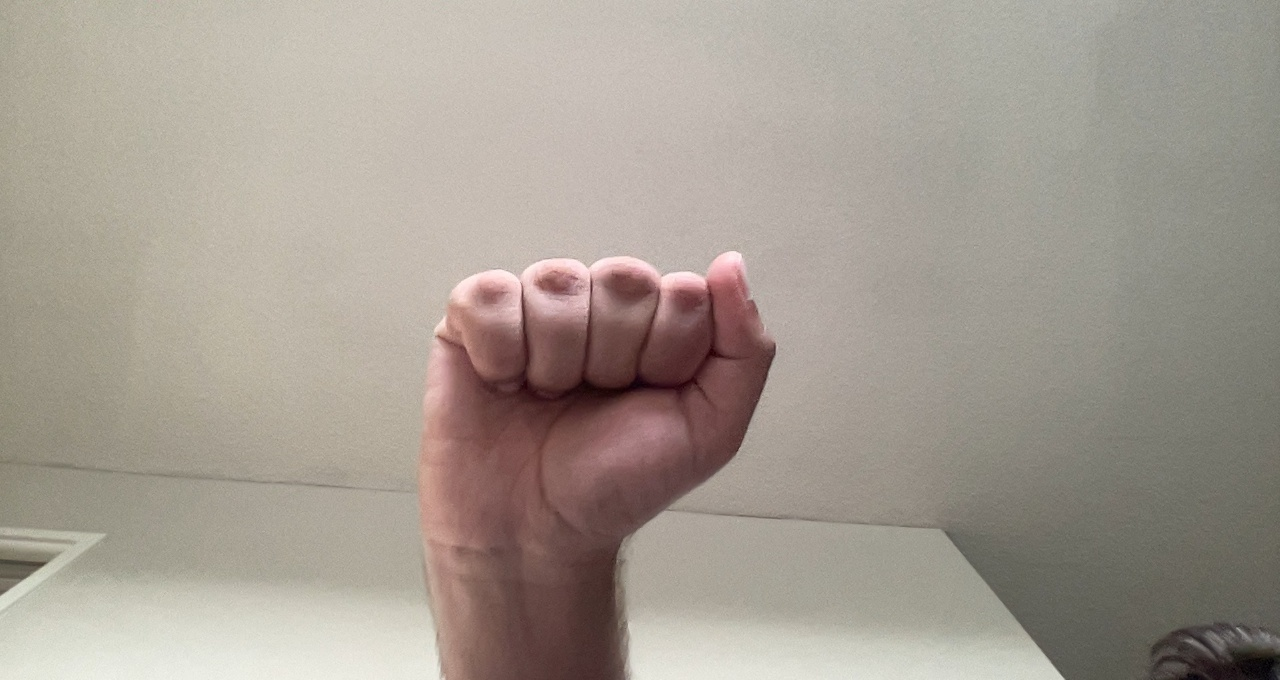closedfist: (419, 240, 784, 586)
